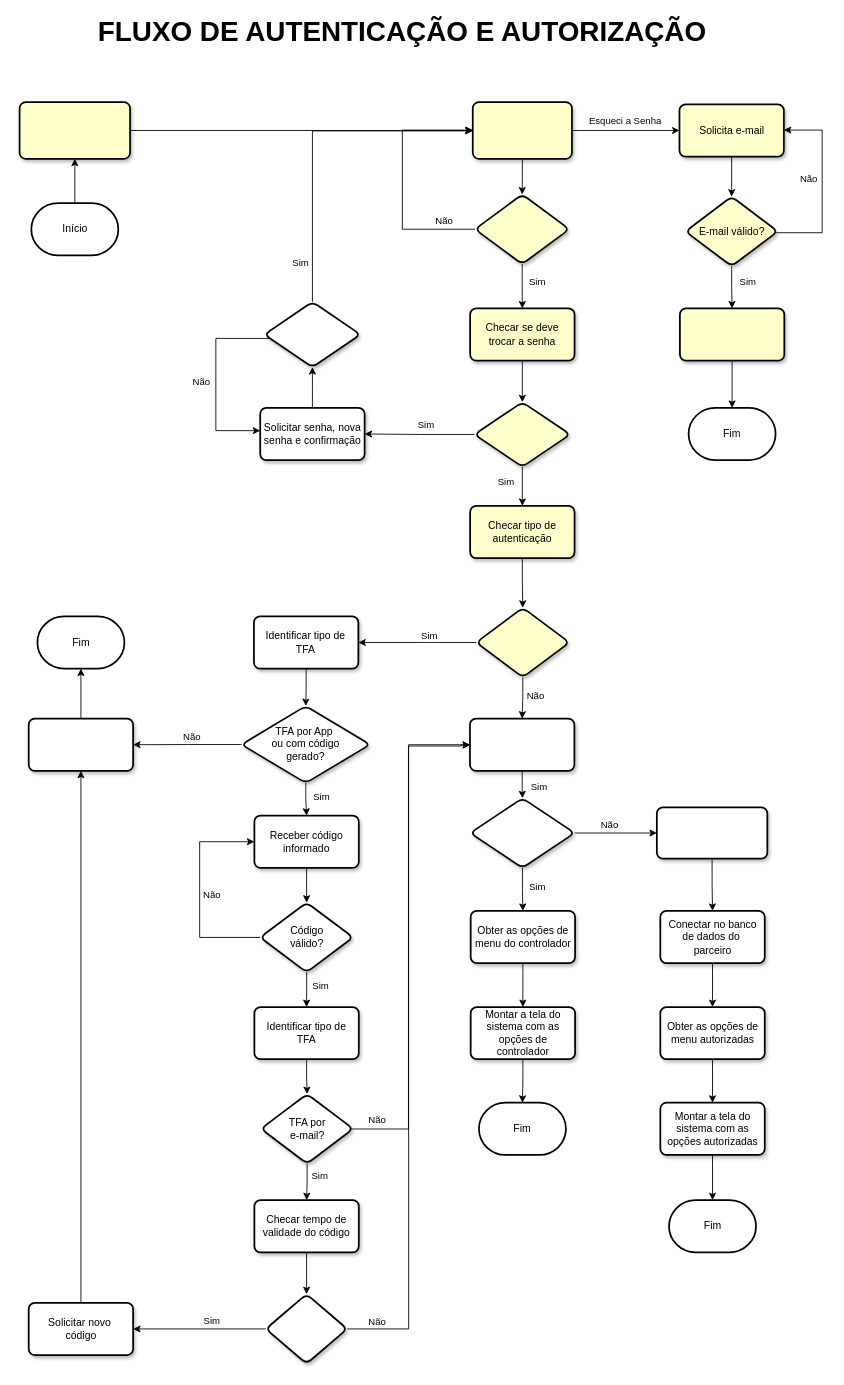
Image size: 844x1385. Some labels were removed from this diagram. The shapes that lost their labels are listed below. From the top down, each one's centre as x and y in pixels, then its label:
the point at 75,131: Entrar no site institucional
the point at 523,131: Solicitar usuário e senha
the point at 522,230: Credenciais válidas?
the point at 313,335: Senhas válidas?
the point at 732,335: Envia e-mail com senha provisória
the point at 523,435: Deve trocar a senha?
the point at 523,643: Usa TFA?
the point at 81,745: Enviar e-mail com código TFA gerado
the point at 522,745: Verificar se é Controlador
the point at 522,833: Usuário controlador?
the point at 712,834: Solcitar o parceiro que deseja utilizar
the point at 307,1329: Código vencido?
